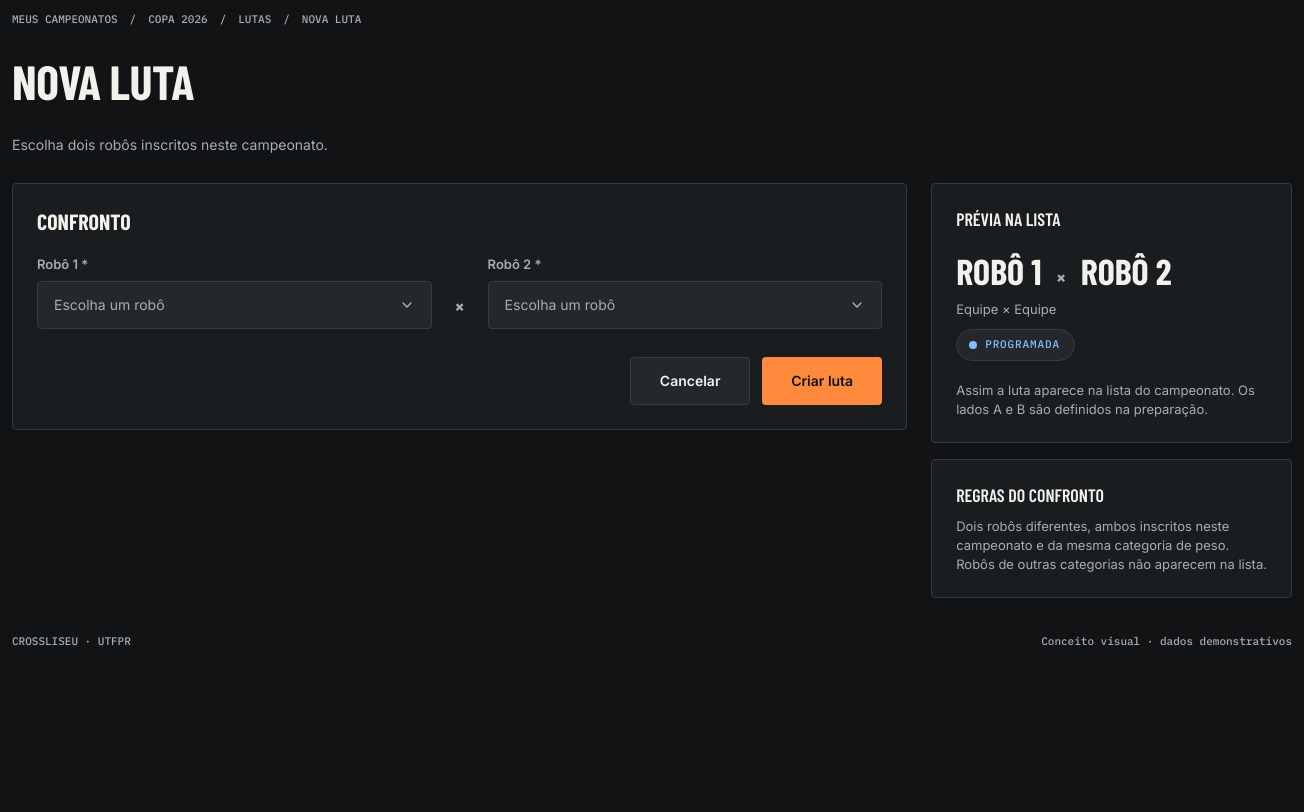
Test case: MatchFormView › lists only Robô 1's weight class for Robô 2 and disables Robô 1 there
Click the dropdown labelled "Escolha um robô" below "Robô 1 *": (234, 305) [37, 281, 432, 329]
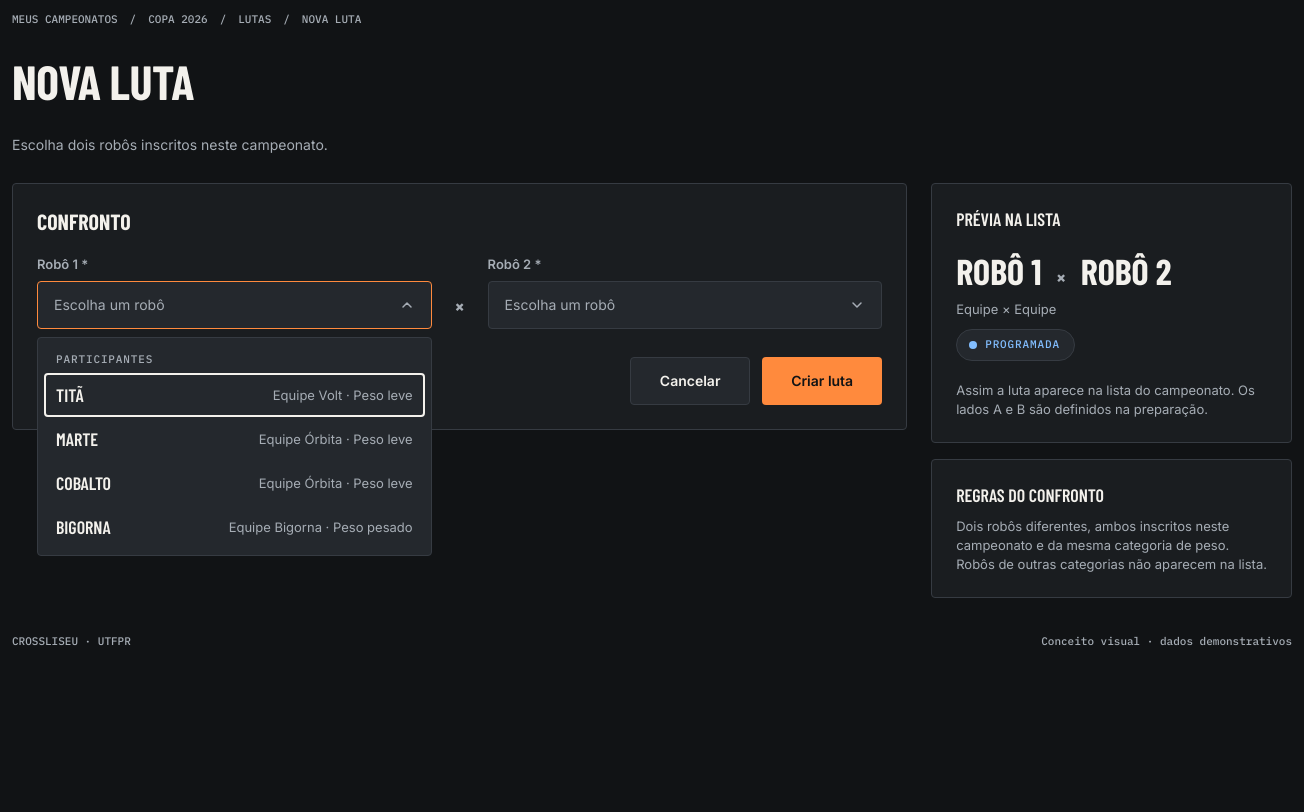
Click the option "Marte Equipe Órbita · Peso leve": (77, 439) [56, 428, 413, 450]
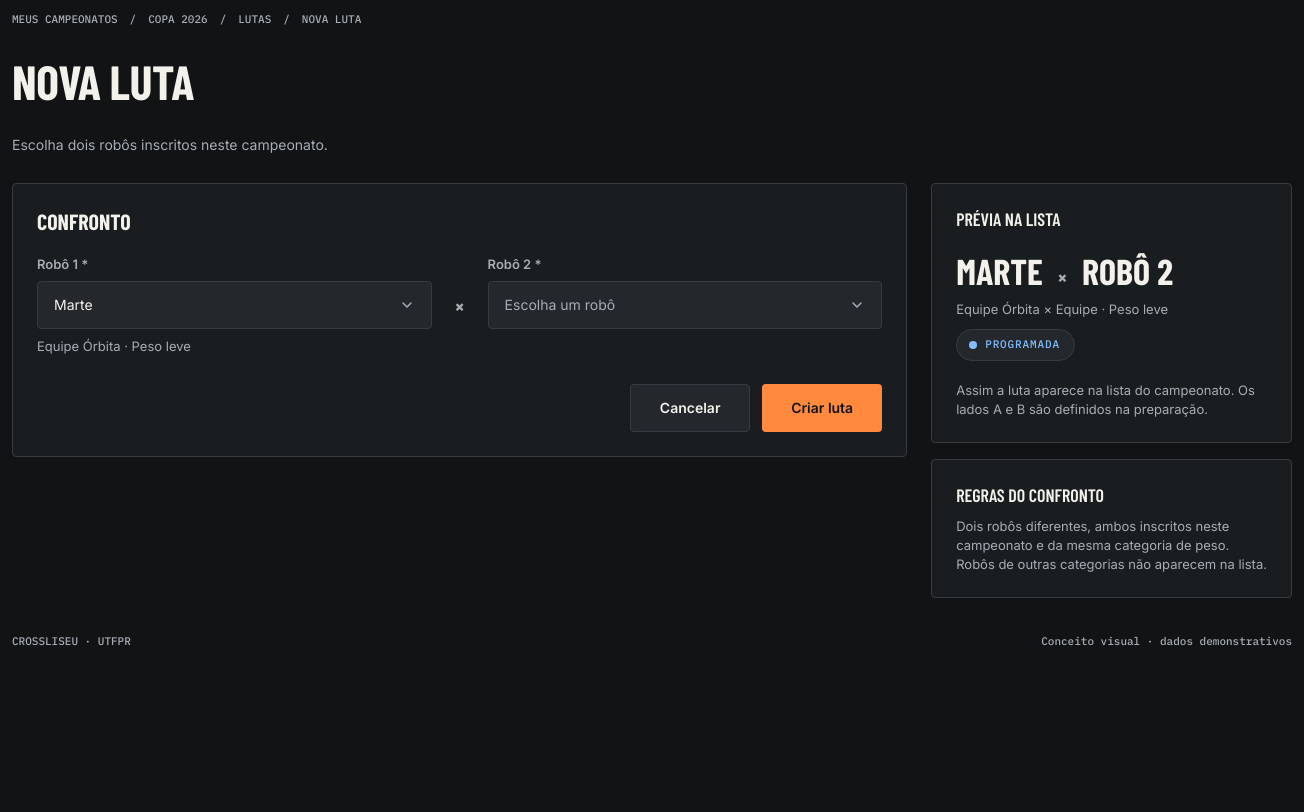
Click the dropdown labelled "Escolha um robô": (685, 305) [488, 281, 882, 329]
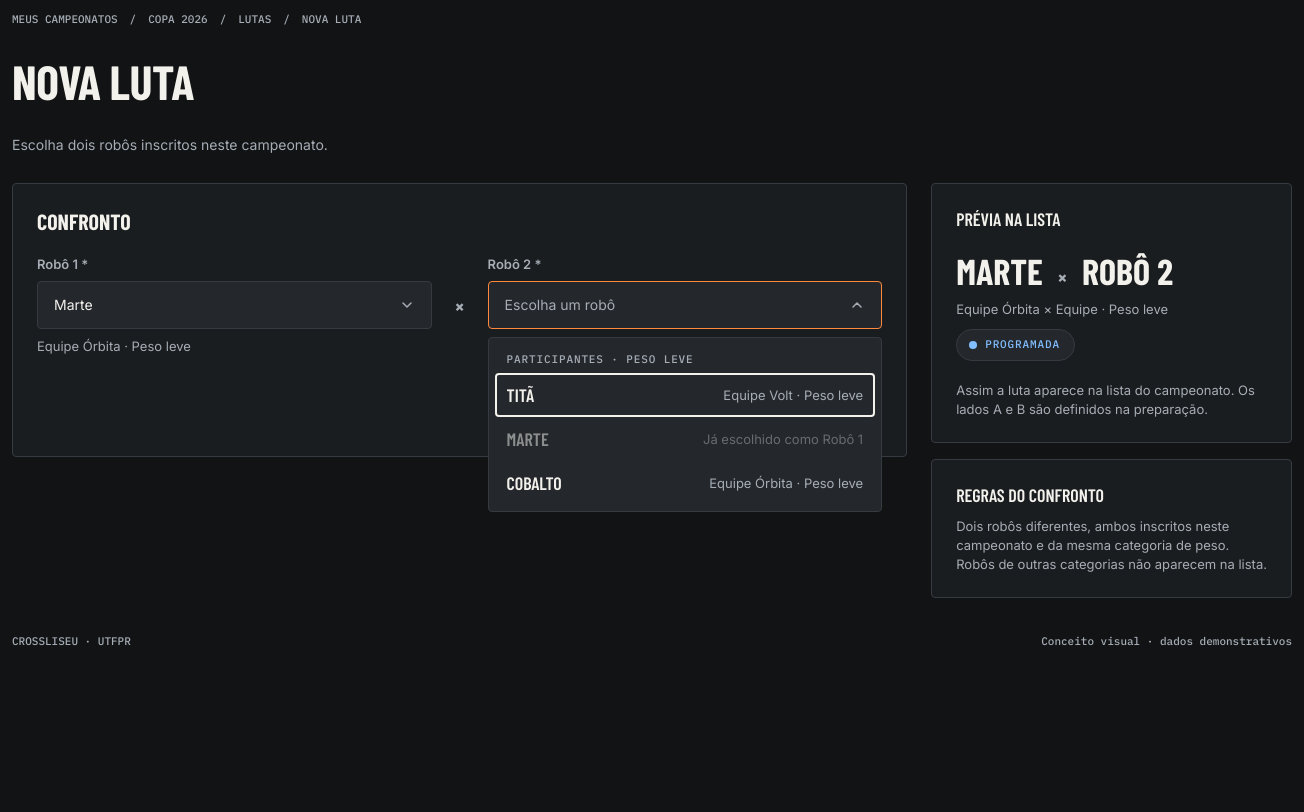
Now the text "Equipe Órbita · Peso leve" is shown, box [37, 338, 191, 354]
Now the option "Marte Já escolhido como Robô 1" is shown, box [507, 428, 863, 450]
Now the text "Participantes · Peso leve" is shown, box [507, 352, 694, 366]
